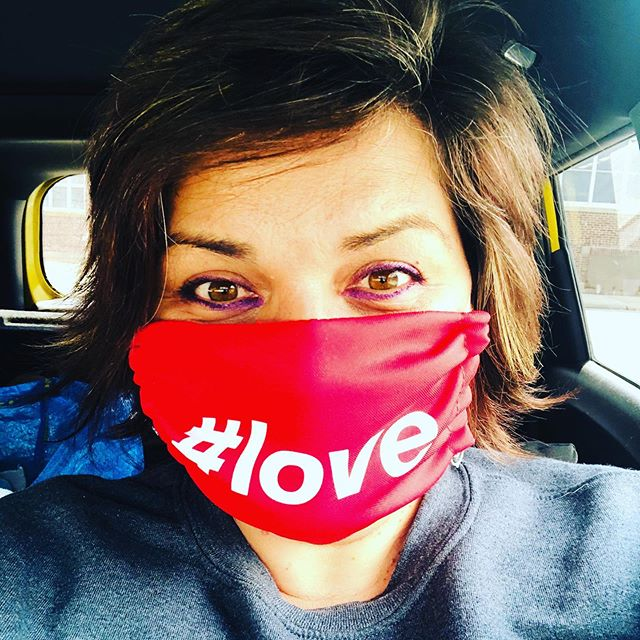homemade: (126, 317, 502, 543)
